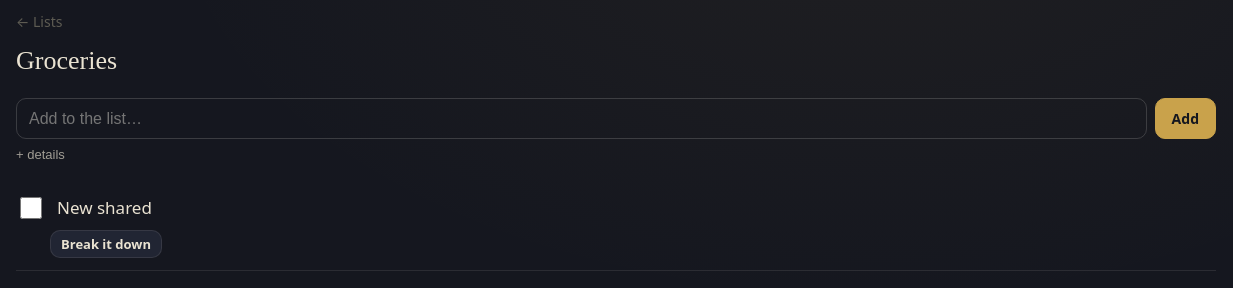
Scenario: list detail — optimistic complete, rollback, breakdown polling › undo within the window cancels the completion entirely
Expected: the text "New shared" is shown, [57,195,152,221]
Click the checkbox named "Complete New shared".
click(31, 208)  # box [20,197,42,219]
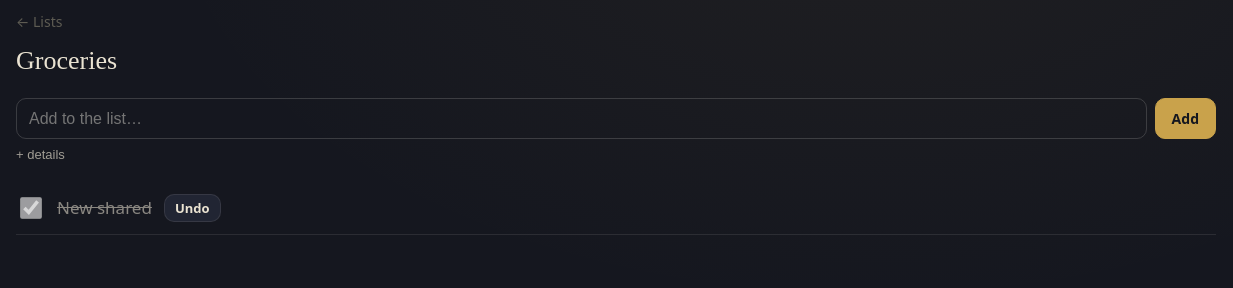
Click the button with aria-label "Undo complete New shared".
click(192, 208)  # box [164,194,221,222]
Wait 6000 ms
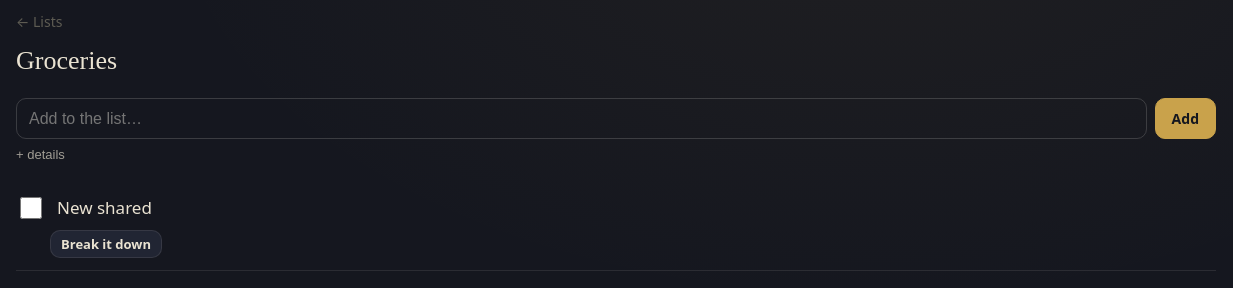
Result: the checkbox named "Complete New shared" is not checked at [20,197,42,219]
